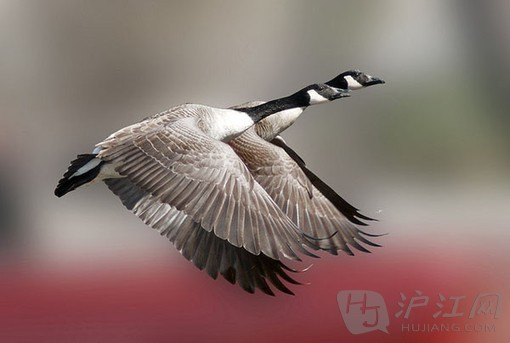bird: (46, 68, 385, 295)
